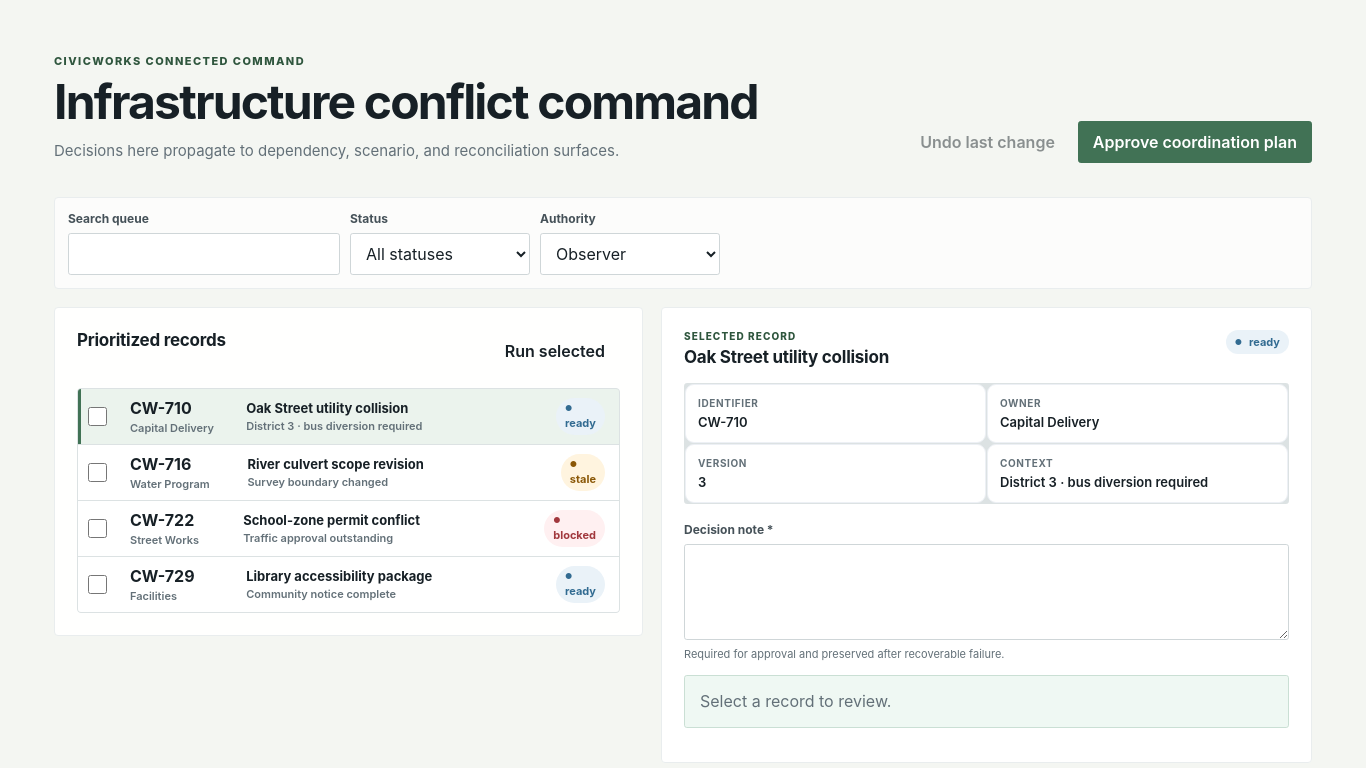
Test case: Infrastructure conflict command › enforces authority and validates the explanation
This screenshot has width=1366, height=768.
Click the button "Approve coordination plan".
click(1195, 142)  # box [1078,121,1312,163]
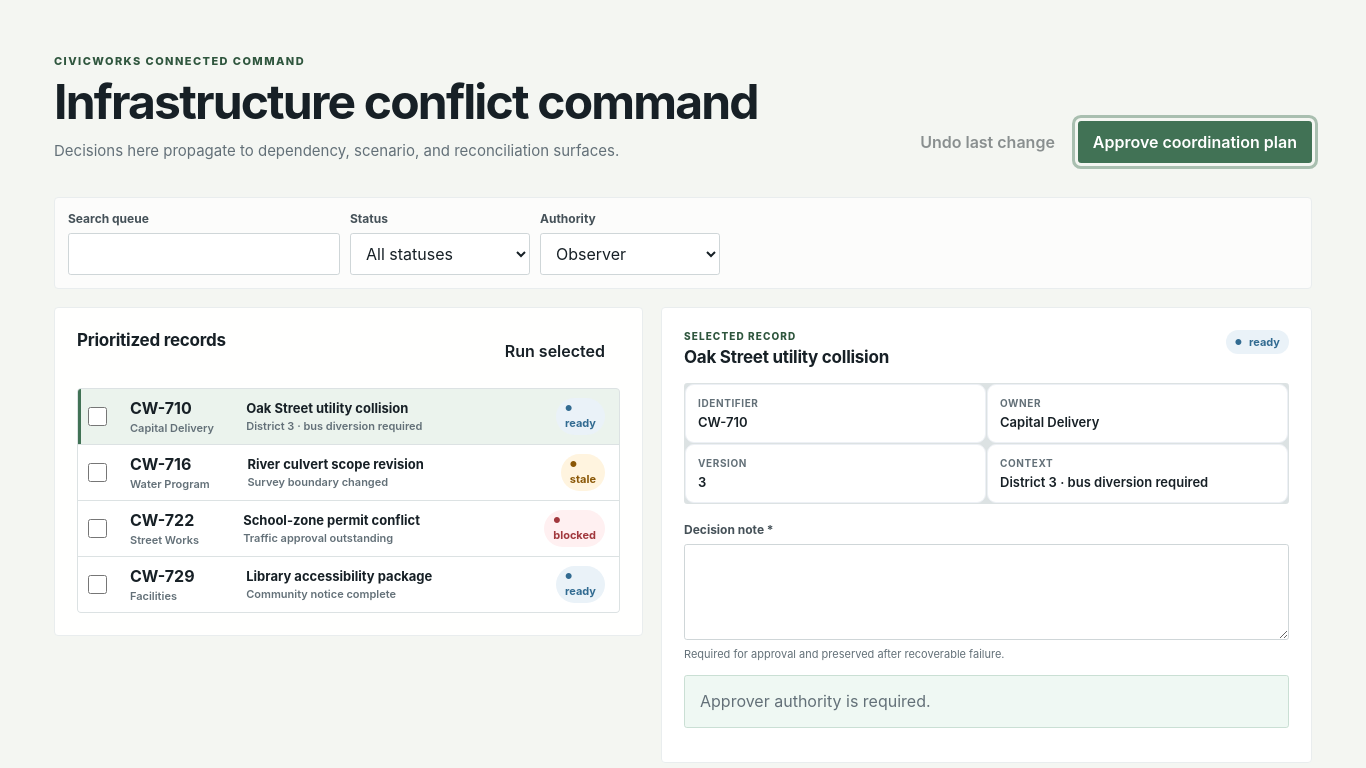
Now the message shows "Approver authority", box [700,691,931,711]
Select "Approver" in the dropdown labelled "Authority" at (630, 254), box [540,233,720,275]
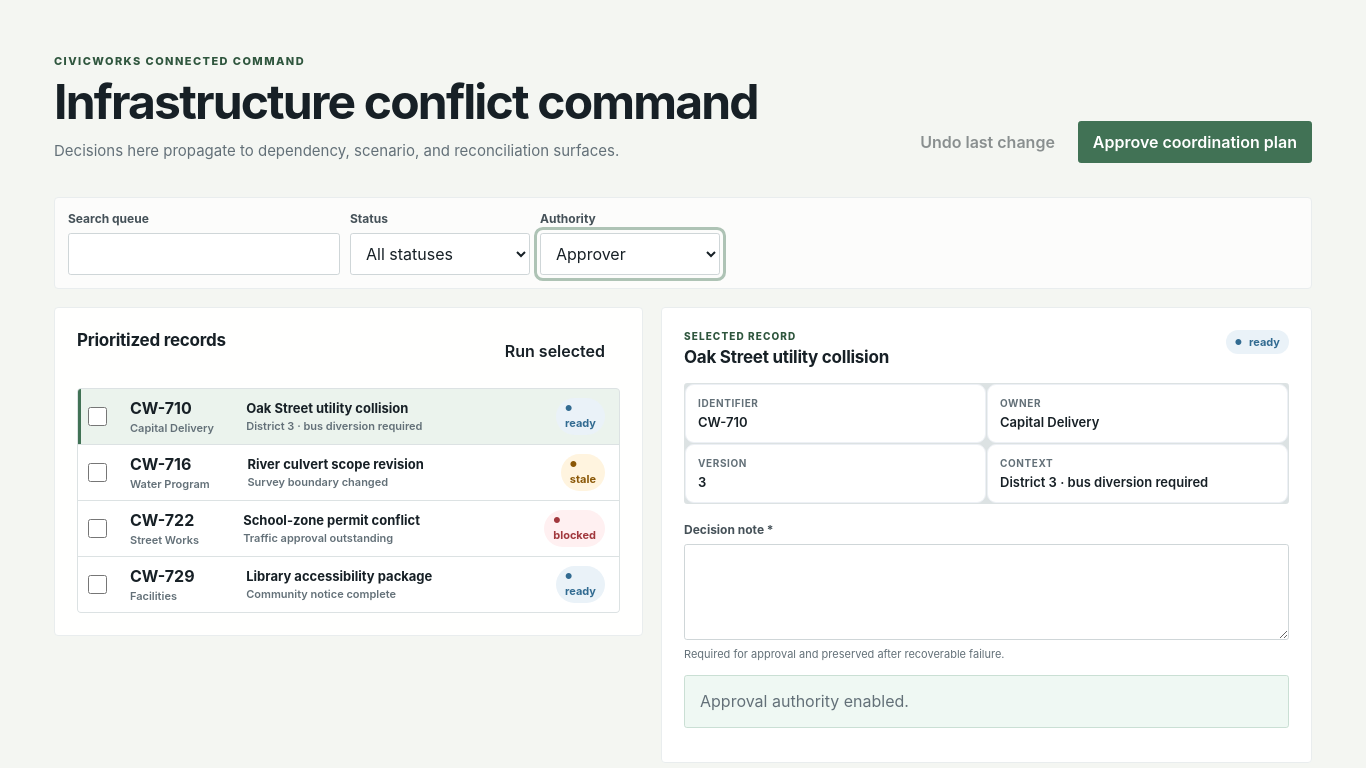
Type "short" into the text box labelled "Decision note".
click(986, 592); type("short")  # box [684,544,1289,640]
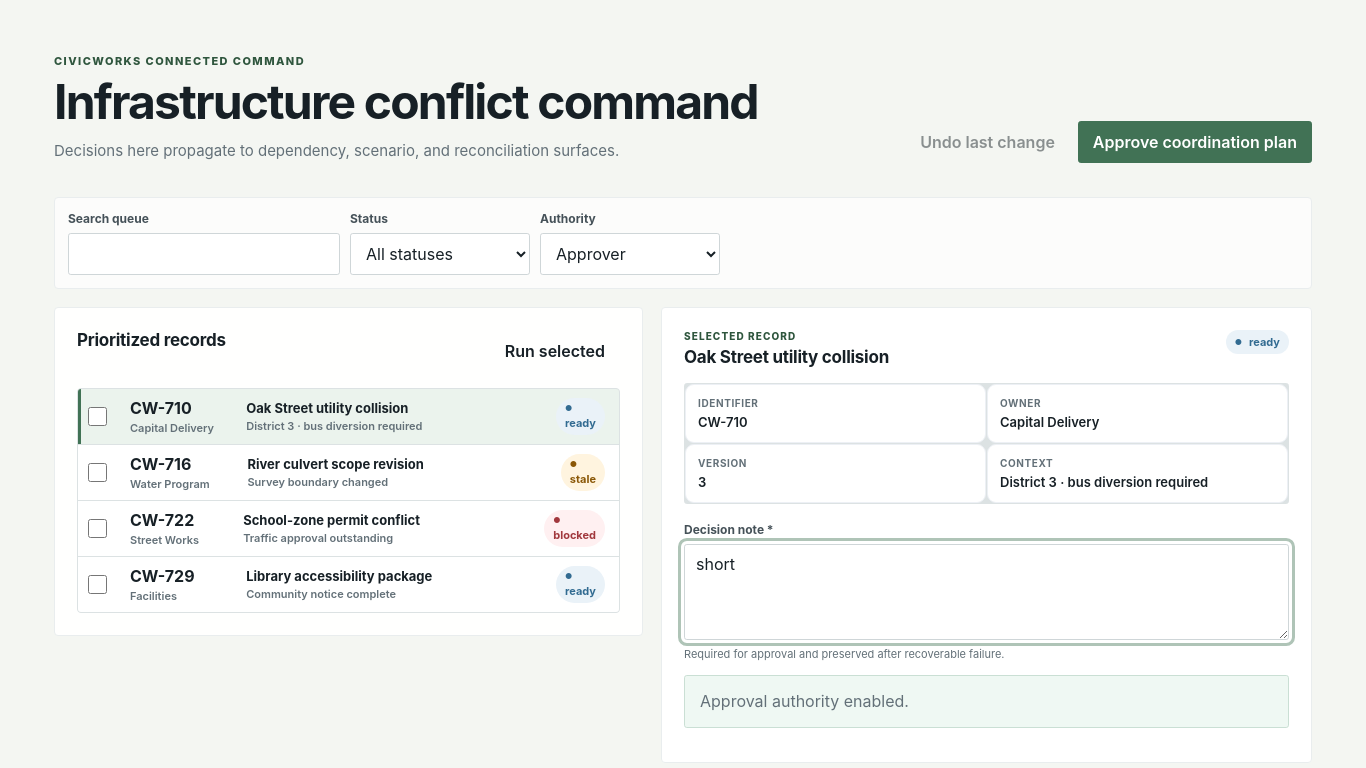
Click the button "Approve coordination plan".
click(1195, 142)  # box [1078,121,1312,163]
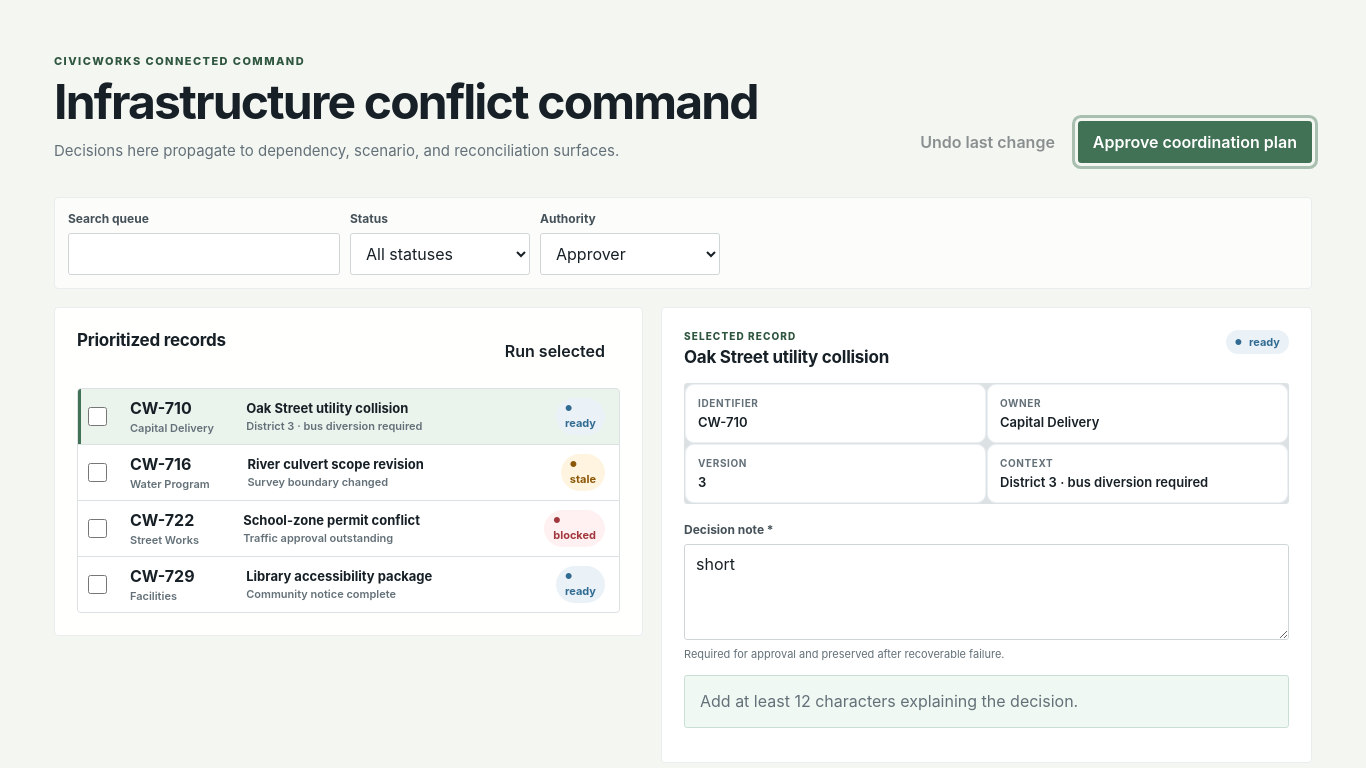
Now the message shows "12 characters", box [700,691,1078,711]
